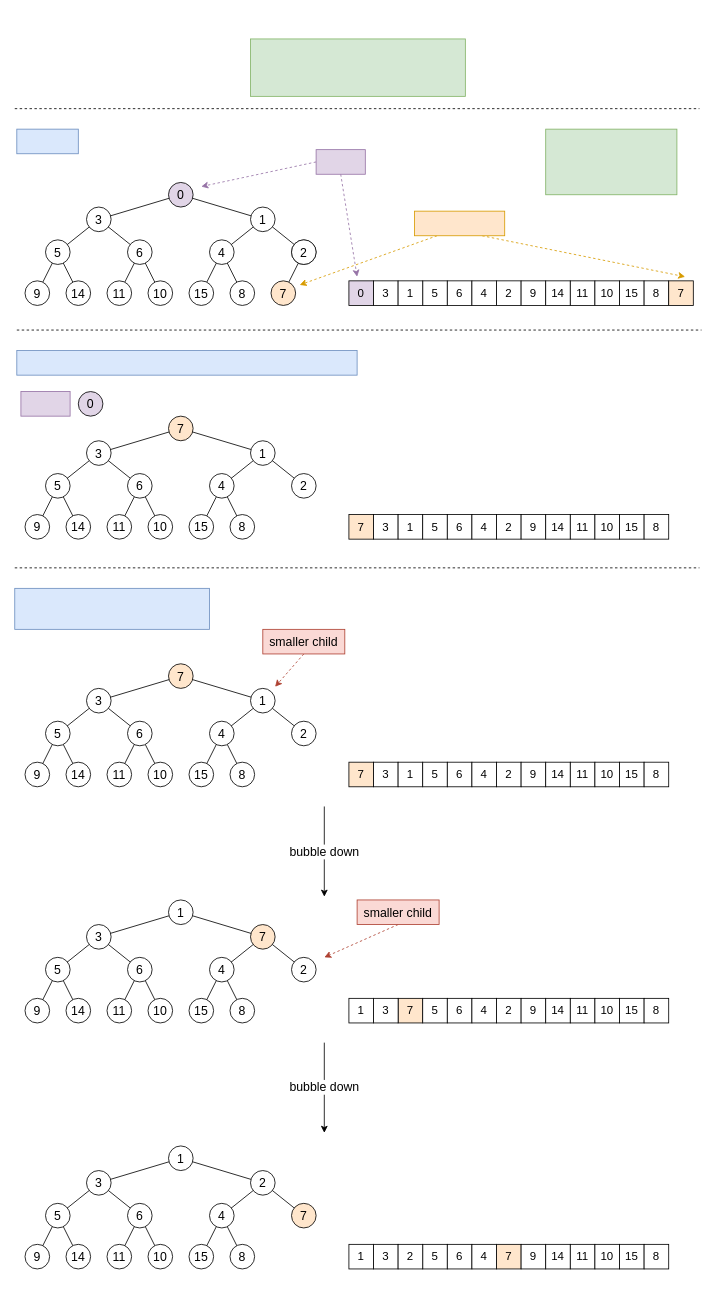
The diagram is 716 pixels wide and 1308 high, and some of its shapes have lost their labels. The shapes that lost their labels are listed below. From the top down, each one's centre as x and y in pixels, then its label:
At (357,67): "BinaryHeap(PriorityQueue) pop 二叉树形式比较直观，实际形式是数组 这里展示的是最小堆".
At (47,141): "初始状态".
At (340,161): "最小值".
At (611,161): "数组中第 i 个元素的： 左儿子：2i+1 右儿子：2i+2 父亲：(i - 1) // 2".
At (459,223): "最后一个节点".
At (186,362): "step1:首先返回最小值，并将最后一个节点设置为新的根节点".
At (45,403): "最小值:".
At (112,608): "step2:若这个节点大于子节点，则bubble down(与smaller child交换)".
